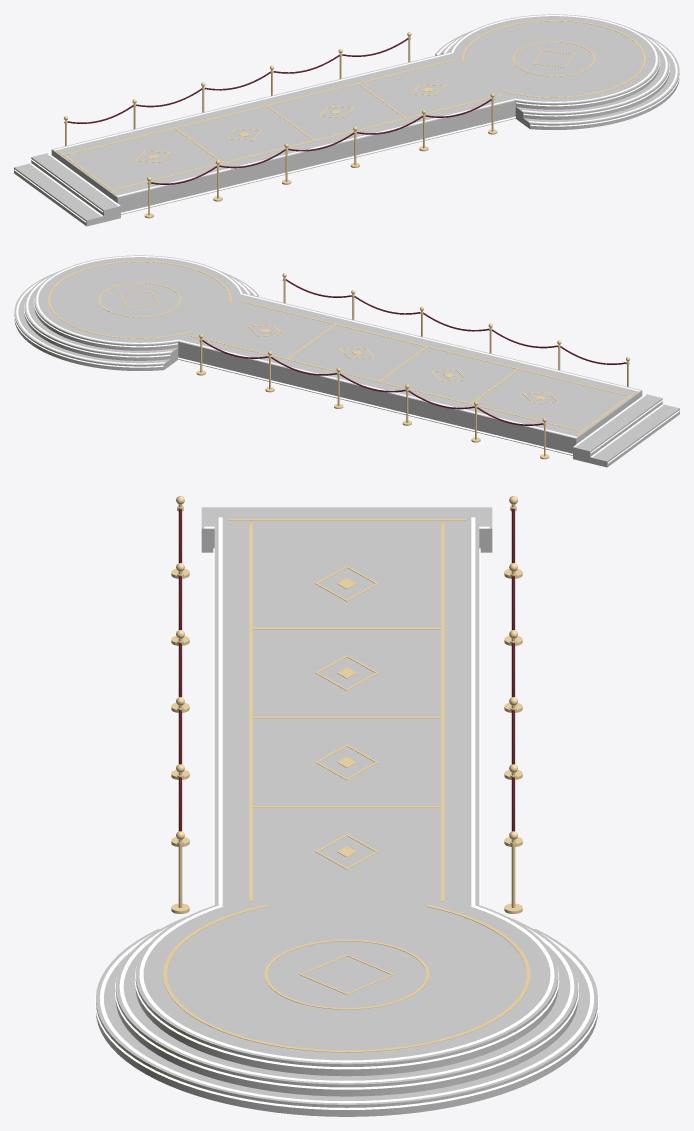
Rendered from SMB_VIPRamp.glb.
3 views of the same model, one above another, from view 1: azimuth 30°, elevation 25°; view 2: azimuth 150°, elevation 25°; view 3: azimuth 270°, elevation 25° (orthographic). The views are drawn at different scales.
Visible parts, largest first — view 1: VIP_Runway__MAT_VIPR_Black_Marble, VIP_Front_Platform__MAT_VIPR_Black_Marble, VIP_LED_Strips__MAT_VIPR_LED_Warm, VIP_Gold_Inlays__MAT_VIPR_Gold, VIP_Entrance_Steps__MAT_VIPR_Black_Marble, VIP_Velvet_Ropes__MAT_VIPR_Velvet, VIP_Stanchions__MAT_VIPR_Gold; view 2: VIP_Runway__MAT_VIPR_Black_Marble, VIP_Front_Platform__MAT_VIPR_Black_Marble, VIP_LED_Strips__MAT_VIPR_LED_Warm, VIP_Gold_Inlays__MAT_VIPR_Gold, VIP_Entrance_Steps__MAT_VIPR_Black_Marble, VIP_Velvet_Ropes__MAT_VIPR_Velvet, VIP_Stanchions__MAT_VIPR_Gold; view 3: VIP_Runway__MAT_VIPR_Black_Marble, VIP_Front_Platform__MAT_VIPR_Black_Marble, VIP_LED_Strips__MAT_VIPR_LED_Warm, VIP_Gold_Inlays__MAT_VIPR_Gold, VIP_Stanchions__MAT_VIPR_Gold, VIP_Entrance_Steps__MAT_VIPR_Black_Marble, VIP_Velvet_Ropes__MAT_VIPR_Velvet.
Part boxes in pixels (left/top/right/bottom): VIP_Runway__MAT_VIPR_Black_Marble: left=51, top=52, right=515, bottom=214; VIP_Front_Platform__MAT_VIPR_Black_Marble: left=435, top=14, right=679, bottom=129; VIP_LED_Strips__MAT_VIPR_LED_Warm: left=14, top=15, right=679, bottom=222; VIP_Gold_Inlays__MAT_VIPR_Gold: left=57, top=20, right=645, bottom=194; VIP_Entrance_Steps__MAT_VIPR_Black_Marble: left=14, top=153, right=120, bottom=226; VIP_Velvet_Ropes__MAT_VIPR_Velvet: left=67, top=38, right=491, bottom=184; VIP_Stanchions__MAT_VIPR_Gold: left=63, top=32, right=497, bottom=218; VIP_Runway__MAT_VIPR_Black_Marble: left=178, top=293, right=642, bottom=455; VIP_Front_Platform__MAT_VIPR_Black_Marble: left=14, top=255, right=258, bottom=370; VIP_LED_Strips__MAT_VIPR_LED_Warm: left=14, top=256, right=679, bottom=463; VIP_Gold_Inlays__MAT_VIPR_Gold: left=48, top=261, right=636, bottom=435; VIP_Entrance_Steps__MAT_VIPR_Black_Marble: left=573, top=394, right=679, bottom=467; VIP_Velvet_Ropes__MAT_VIPR_Velvet: left=202, top=279, right=626, bottom=425; VIP_Stanchions__MAT_VIPR_Gold: left=196, top=273, right=630, bottom=459; VIP_Runway__MAT_VIPR_Black_Marble: left=214, top=516, right=479, bottom=904; VIP_Front_Platform__MAT_VIPR_Black_Marble: left=96, top=905, right=597, bottom=1116; VIP_LED_Strips__MAT_VIPR_LED_Warm: left=95, top=517, right=598, bottom=1109; VIP_Gold_Inlays__MAT_VIPR_Gold: left=163, top=518, right=530, bottom=1052; VIP_Stanchions__MAT_VIPR_Gold: left=171, top=496, right=522, bottom=913; VIP_Entrance_Steps__MAT_VIPR_Black_Marble: left=201, top=507, right=492, bottom=552; VIP_Velvet_Ropes__MAT_VIPR_Velvet: left=179, top=509, right=514, bottom=831.
Size of the model in its own units: 53.56 by 3.29 by 19.06.
